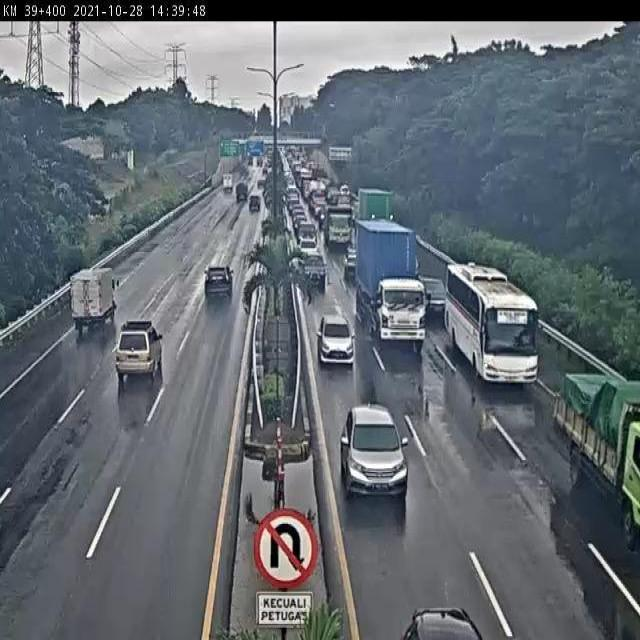car: (339, 401, 408, 515), (114, 315, 167, 381), (316, 313, 356, 372), (204, 258, 235, 310), (417, 267, 448, 317), (300, 250, 331, 298), (342, 243, 359, 280)
truck: (547, 363, 640, 547), (444, 253, 540, 395), (355, 218, 423, 346), (70, 256, 120, 340)
